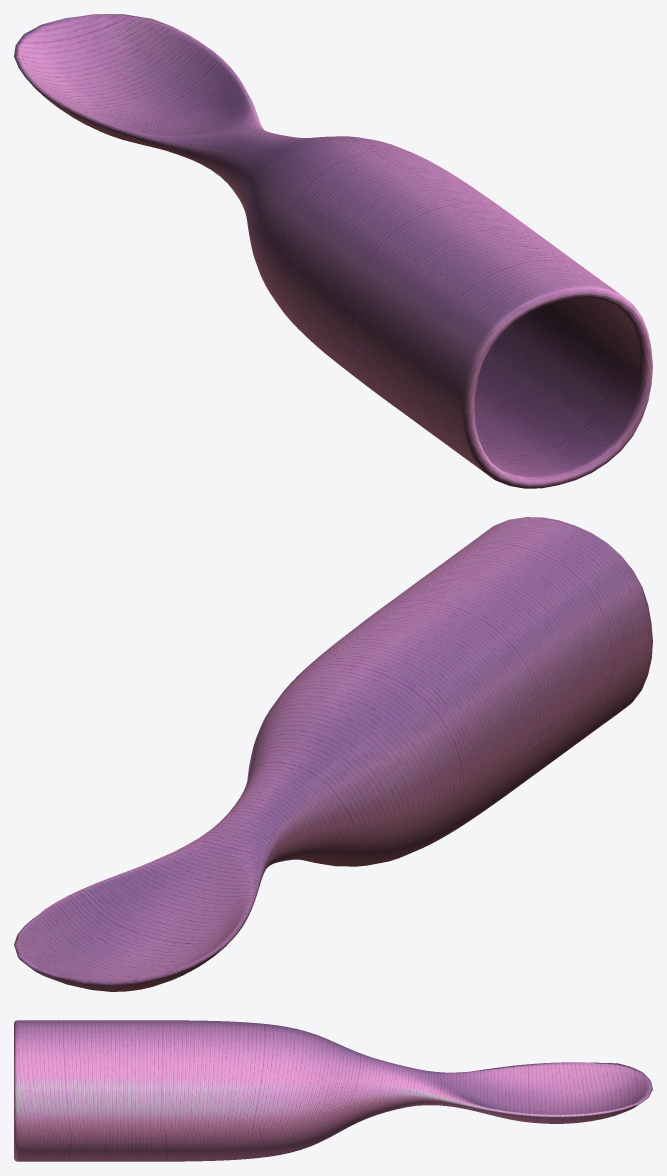
The model's file is 13_Finger.glb.
3 views of the same model, one above another, from view 1: azimuth 30°, elevation 25°; view 2: azimuth 150°, elevation 25°; view 3: azimuth 270°, elevation 25° (orthographic). The views are drawn at different scales.
Parts seen in each view (by area): view 1: 13_Finger; view 2: 13_Finger; view 3: 13_Finger.
Boxes of the visible parts, x1=… form: 13_Finger: x1=14, y1=14, x2=652, y2=488; 13_Finger: x1=14, y1=517, x2=652, y2=991; 13_Finger: x1=14, y1=1020, x2=652, y2=1161.
Bounding box in the file's own units: 0.0225 × 0.0222 × 0.1028.
1 material, 1 textured.
